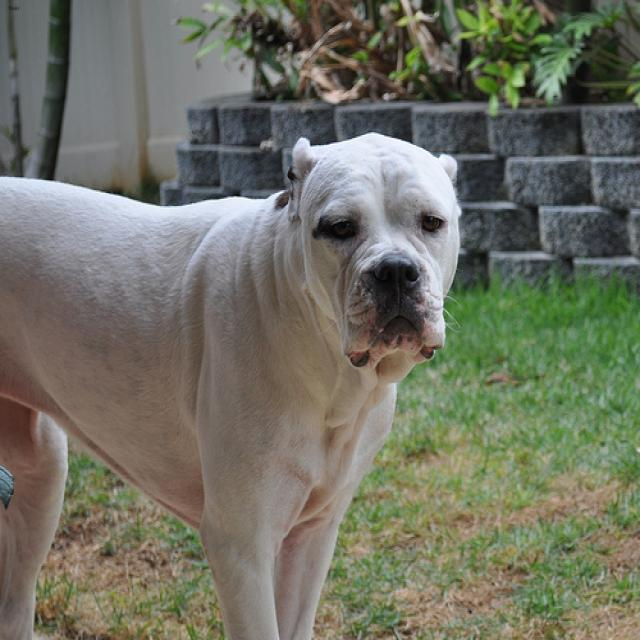dog-american_bulldog: (1, 125, 470, 637)
